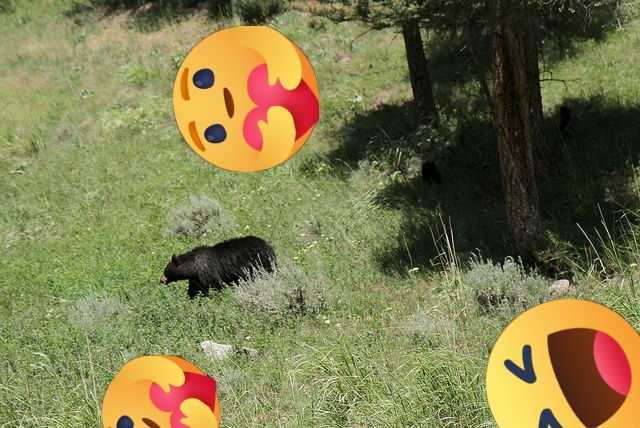care: (173, 26, 319, 172), (102, 355, 220, 428)
haha: (486, 299, 640, 428)
